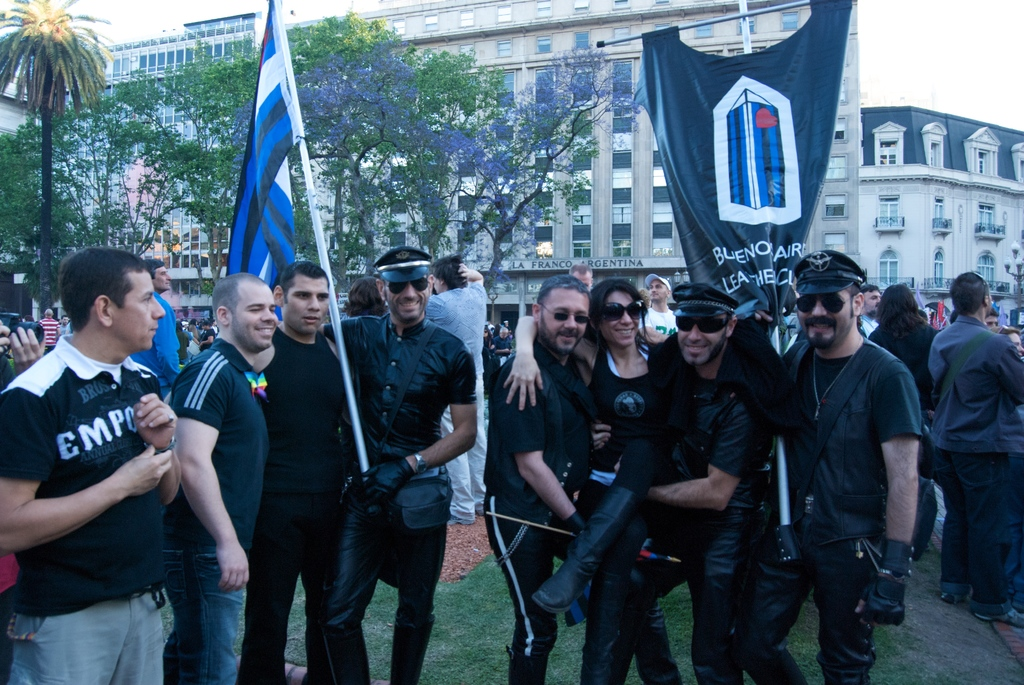Tree: (281, 4, 516, 274), (456, 32, 645, 299), (0, 0, 115, 315), (51, 69, 209, 264), (296, 47, 418, 274), (157, 32, 267, 283), (0, 115, 87, 252)
